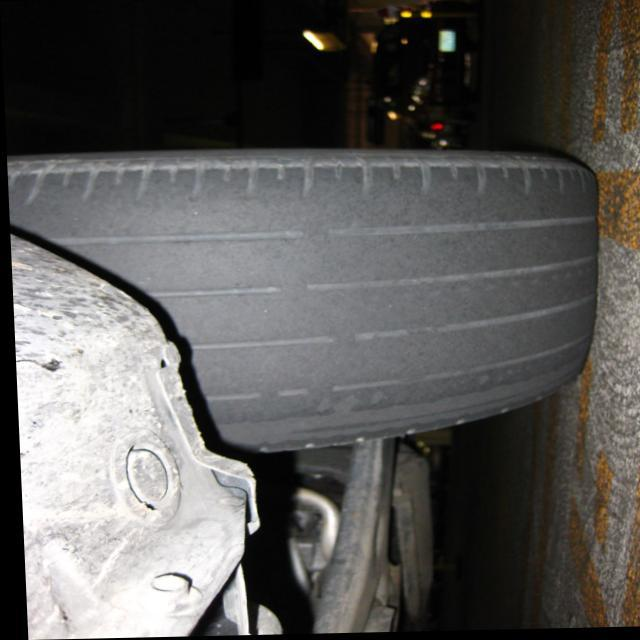Flat spots: (166, 149, 600, 399)
